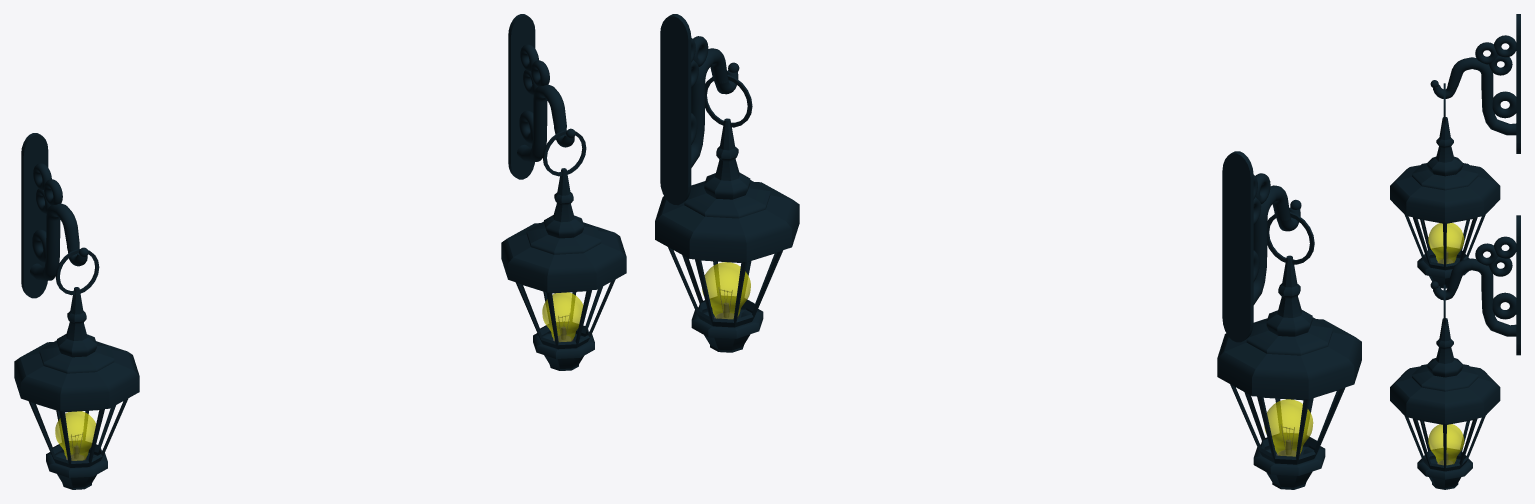
The model's file is Wandleuchten Comb.fbx.
3 views of the same model, side by side, from view 1: azimuth 30°, elevation 25°; view 2: azimuth 150°, elevation 25°; view 3: azimuth 270°, elevation 25° (orthographic). The views are drawn at different scales.
Visible parts, largest first — view 1: WandlaterneCombined:polySurface15; view 2: WandlaterneCombined:polySurface15; view 3: WandlaterneCombined:polySurface15.
Part boxes in pixels (x1=…): WandlaterneCombined:polySurface15: x1=14, y1=14, x2=626, y2=489; WandlaterneCombined:polySurface15: x1=655, y1=14, x2=1361, y2=489; WandlaterneCombined:polySurface15: x1=1390, y1=14, x2=1520, y2=489.
Size of the model in its own units: 278 by 141 by 62.16.
